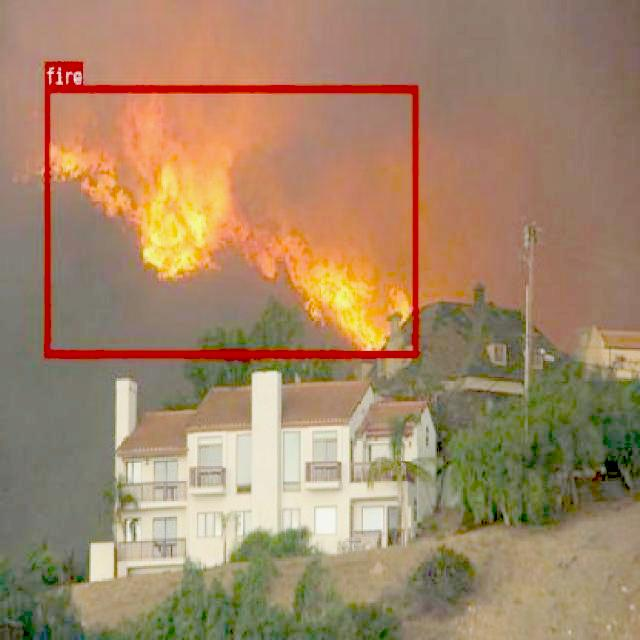fire: (45, 85, 418, 358)
